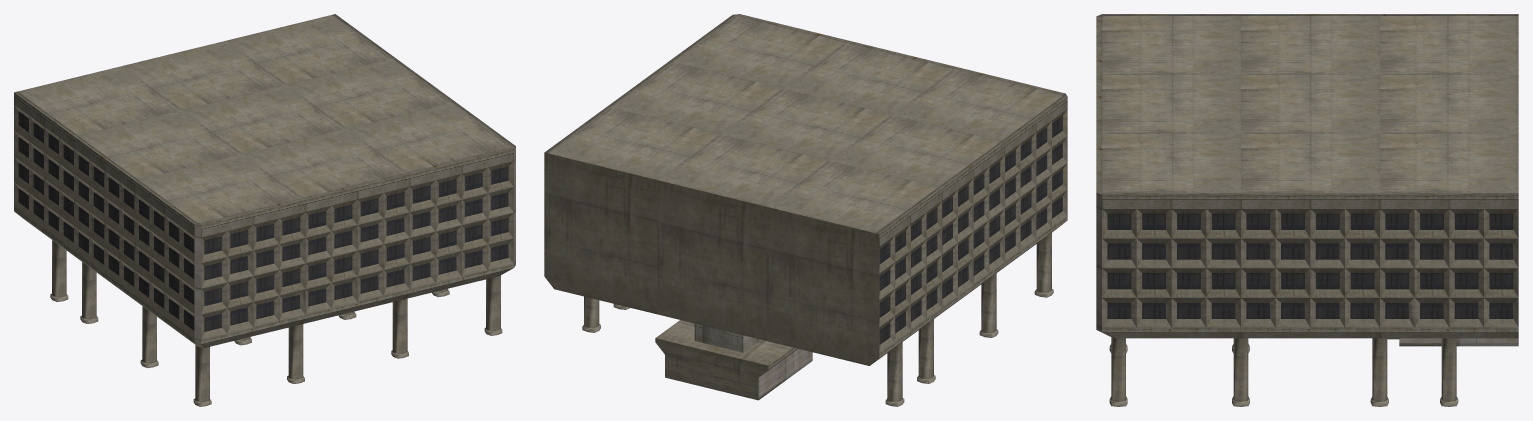
File: tutorial_building3.gltf
The picture shows the model from 3 angles, left to right: view 1: azimuth 30°, elevation 25°; view 2: azimuth 150°, elevation 25°; view 3: azimuth 270°, elevation 25°; orthographic projection. The views are drawn at different scales.
Visible parts, largest first — view 1: building3; view 2: building3; view 3: building3.
Part boxes in pixels (bbox=[...]): building3: bbox=[14, 14, 515, 406]; building3: bbox=[544, 14, 1067, 406]; building3: bbox=[1096, 14, 1518, 406].
Bounding box in the file's own units: 45.29 × 25.27 × 44.68.
2 materials, 2 textured.
